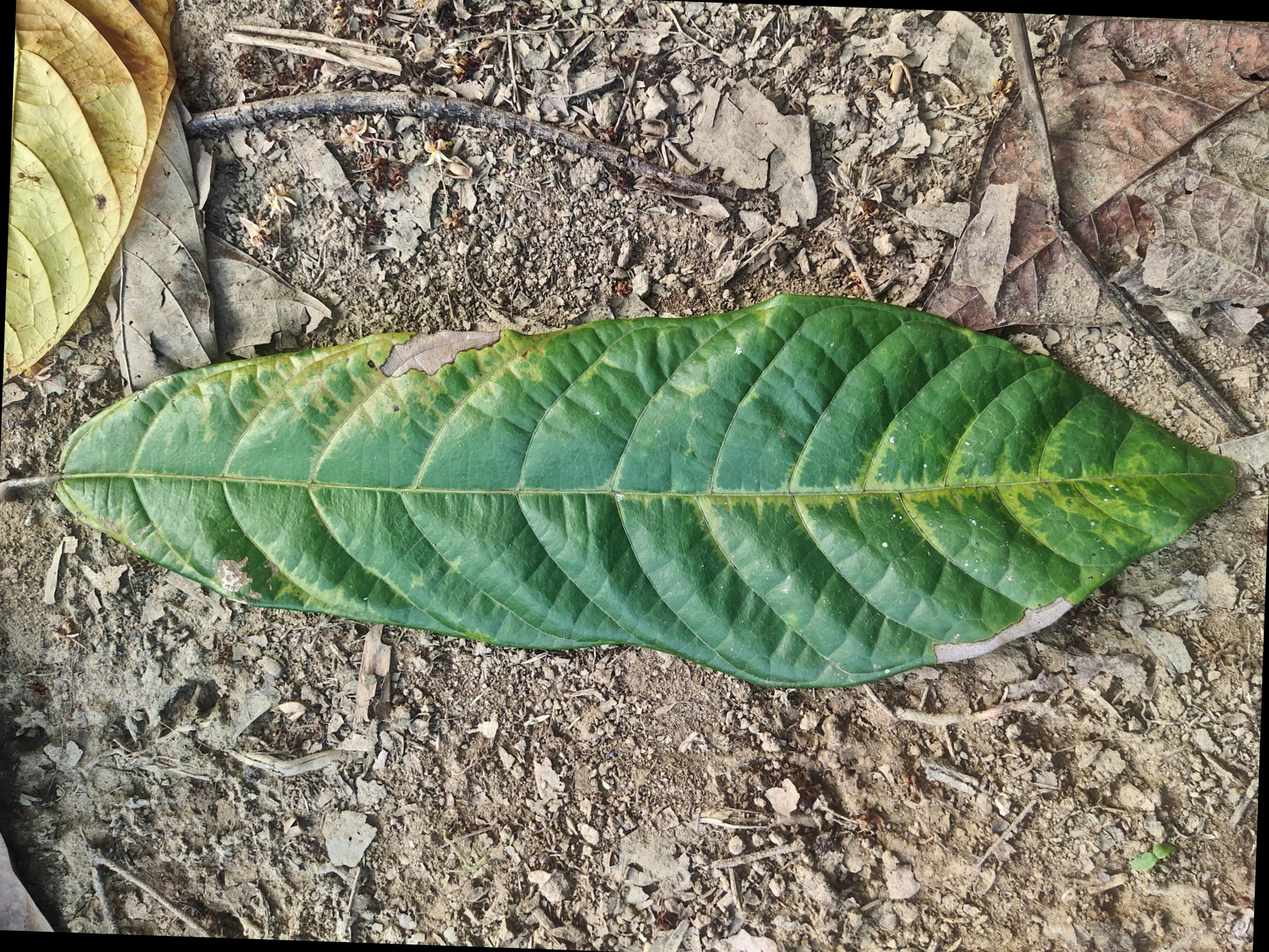Fosforo: (50, 306, 1235, 685)
